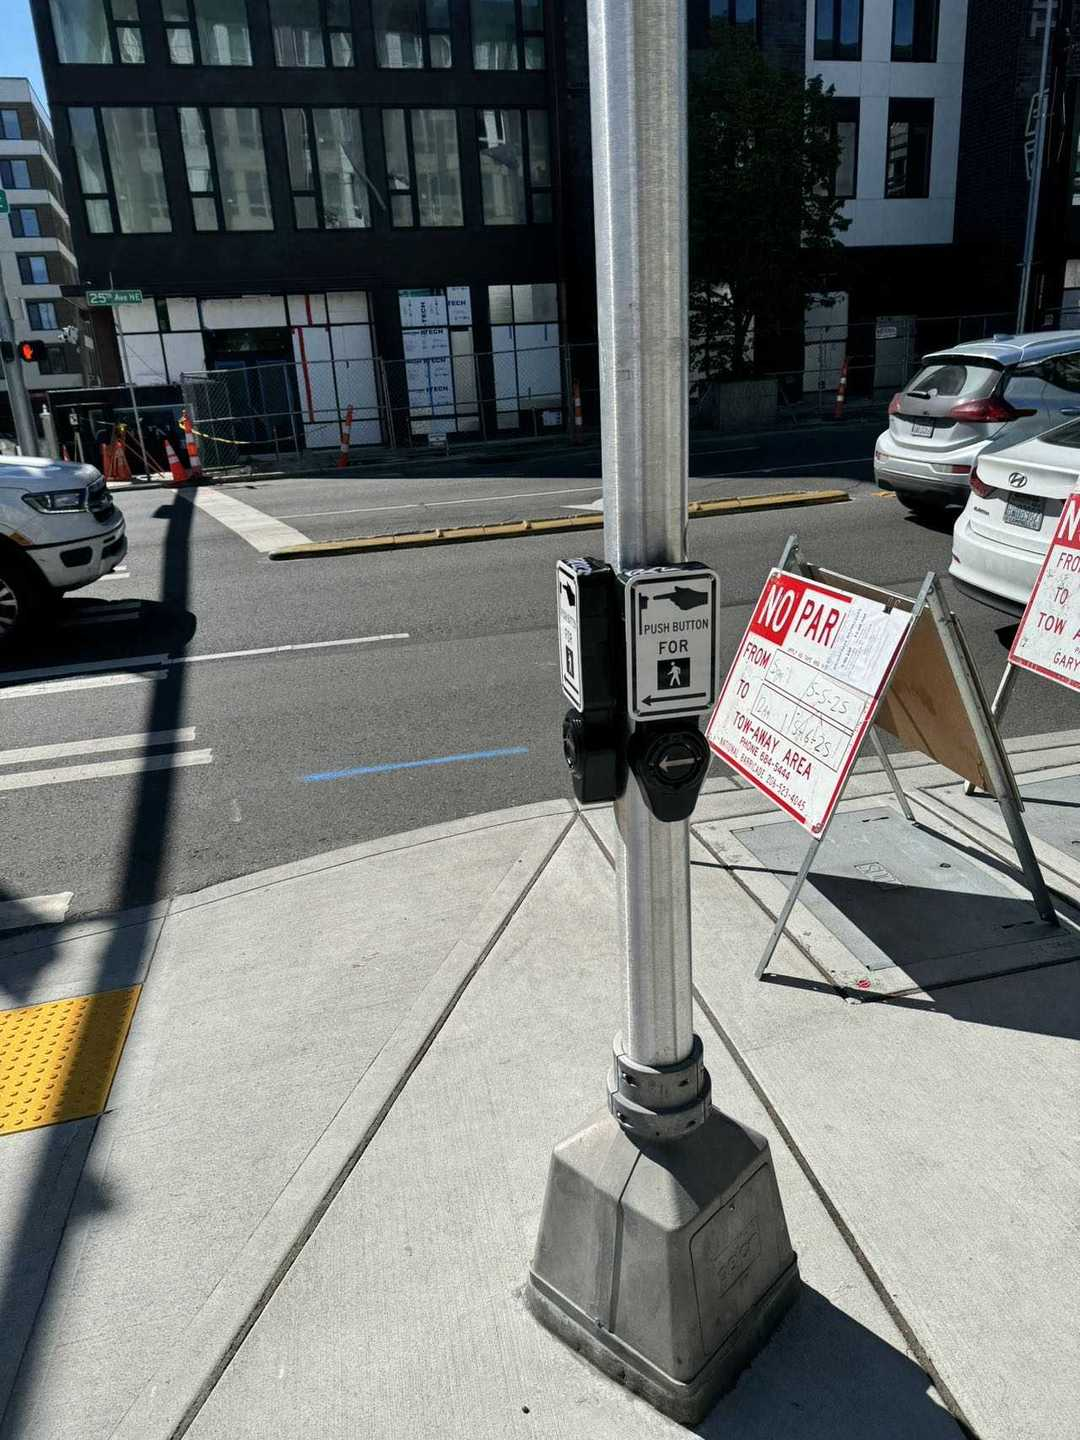ped_button: (547, 559, 716, 835)
